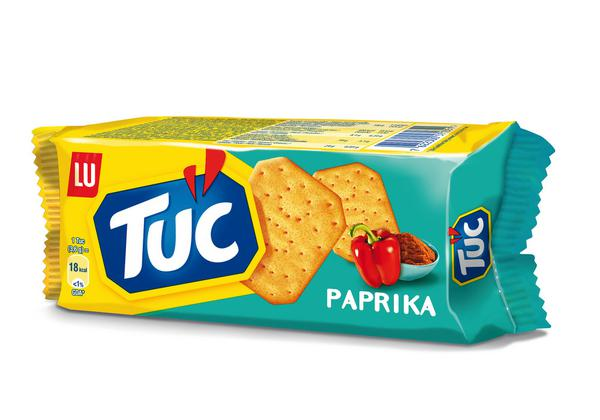crackers tuc: (53, 124, 501, 348)
